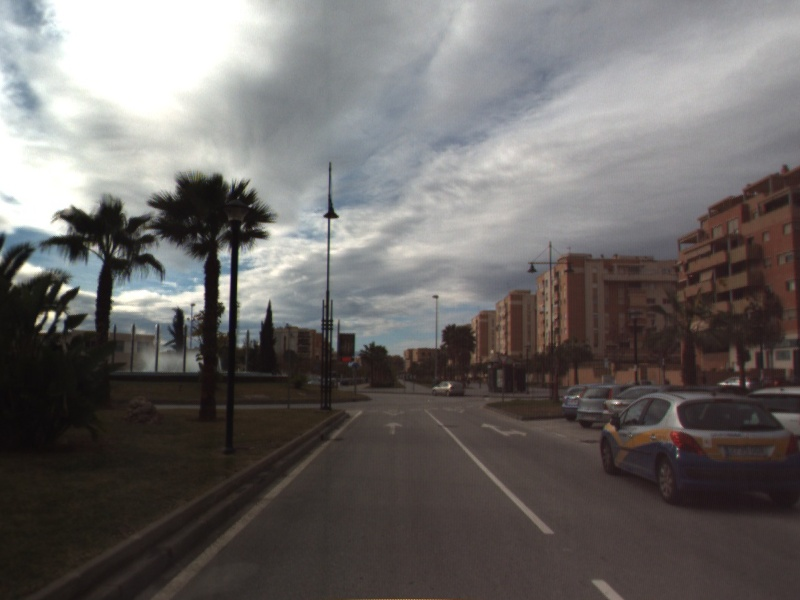STRAIGHT: (383, 420, 404, 436)
STRAIGHT_RIGHT: (480, 421, 529, 439)
